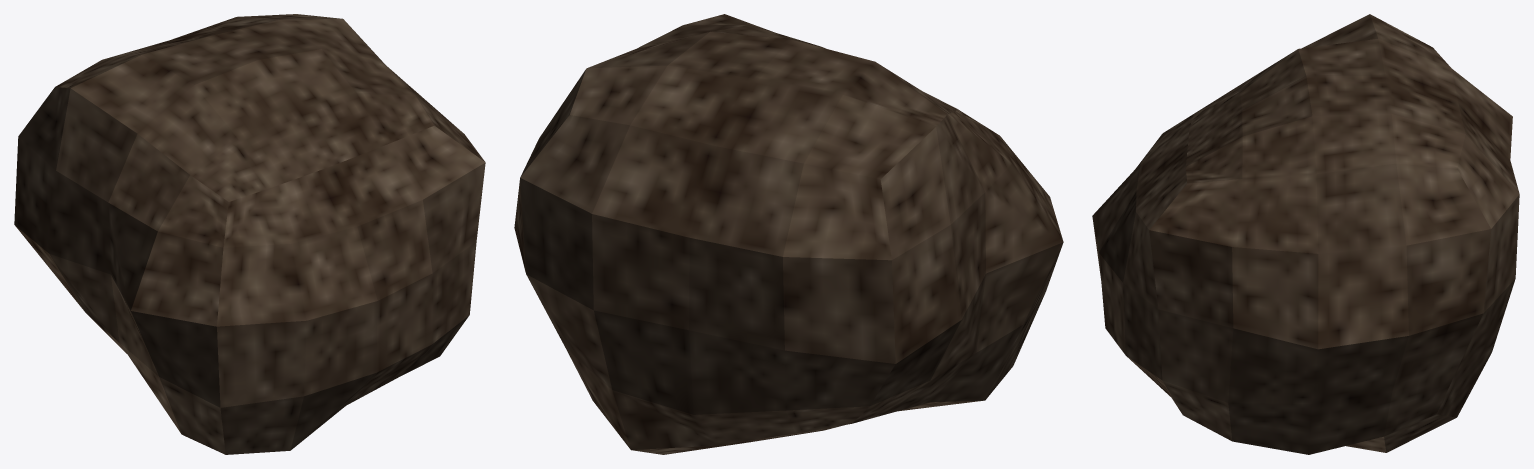
File: SM_EC_Rock_55.fbx
The picture shows the model from 3 angles, left to right: view 1: azimuth 30°, elevation 25°; view 2: azimuth 150°, elevation 25°; view 3: azimuth 270°, elevation 25°; orthographic projection. The views are drawn at different scales.
Visible parts, largest first — view 1: SM_EC_Rock_55; view 2: SM_EC_Rock_55; view 3: SM_EC_Rock_55.
Part boxes in pixels (bbox=[...]): SM_EC_Rock_55: bbox=[14, 14, 485, 454]; SM_EC_Rock_55: bbox=[514, 14, 1063, 454]; SM_EC_Rock_55: bbox=[1092, 14, 1519, 454].
Size of the model in its own units: 0.5672 by 0.5319 by 0.4707.
